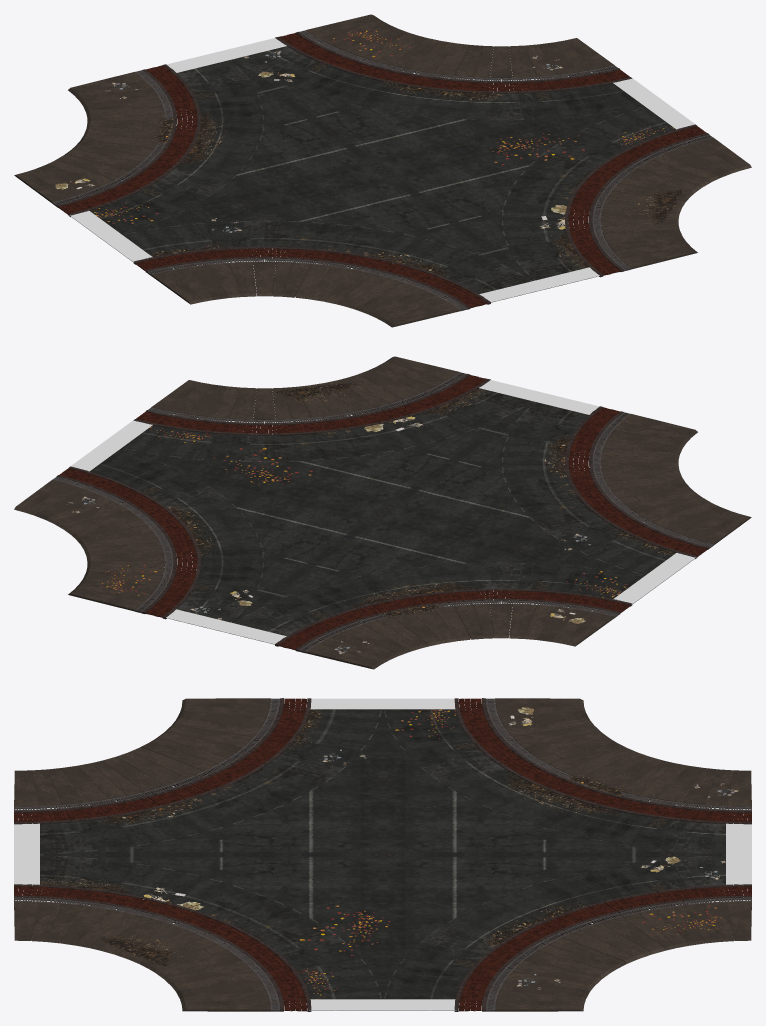
Rendered from ROAD 4 WAY.fbx.
3 renders of one model, top to bottom at view 1: azimuth 30°, elevation 25°; view 2: azimuth 150°, elevation 25°; view 3: azimuth 270°, elevation 25°, orthographic. The views are drawn at different scales.
Visible parts, largest first — view 1: ROAD 4 WAY; view 2: ROAD 4 WAY; view 3: ROAD 4 WAY.
Boxes of the visible parts, left/top/right/bottom form: ROAD 4 WAY: left=14, top=14, right=751, bottom=327; ROAD 4 WAY: left=14, top=356, right=751, bottom=669; ROAD 4 WAY: left=14, top=698, right=751, bottom=1011.
Bounding box in the file's own units: 4874 × 20.62 × 4874.
